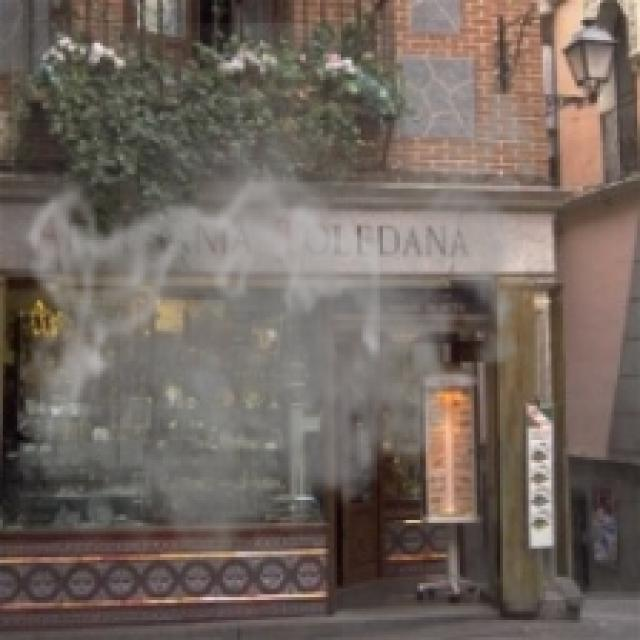smoke: (12, 23, 557, 583)
